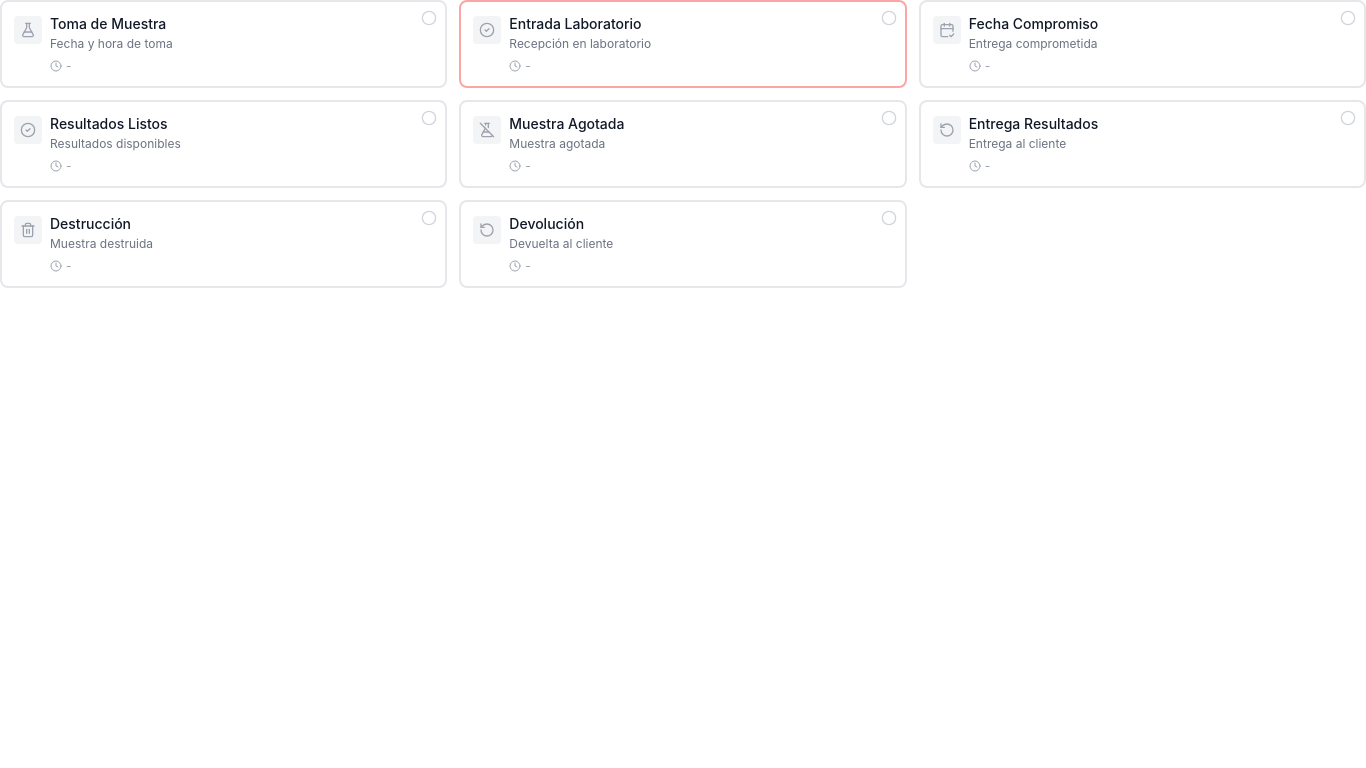
Scenario: TimelineEventsSection › f_recepcion en modo creación (isEditing=false) › el botón de recepción es clickeable y abre el modal
Click the button "Entrada Laboratorio Recepción en laboratorio -": [575, 24] box [459,0,907,88]
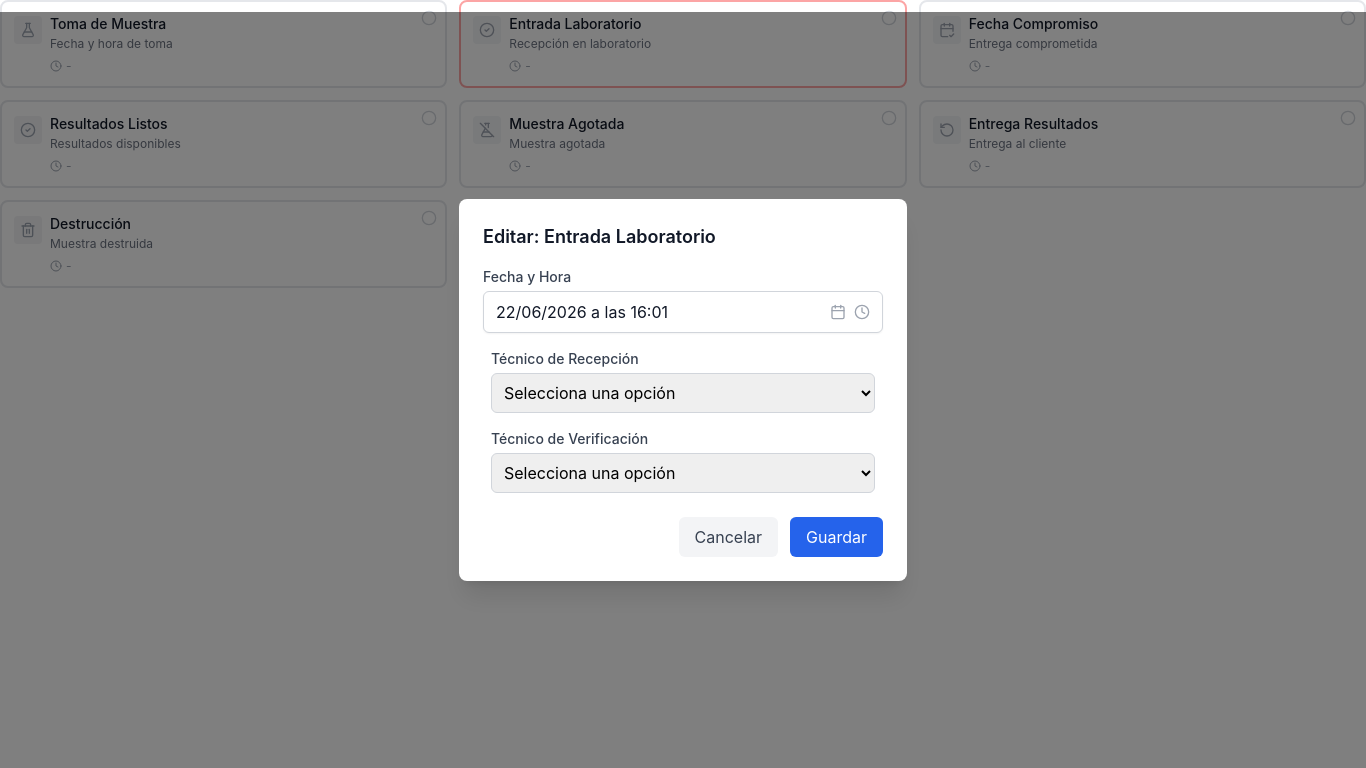
Now the heading "Editar: Entrada Laboratorio" is shown, box [483,226,716,247]
